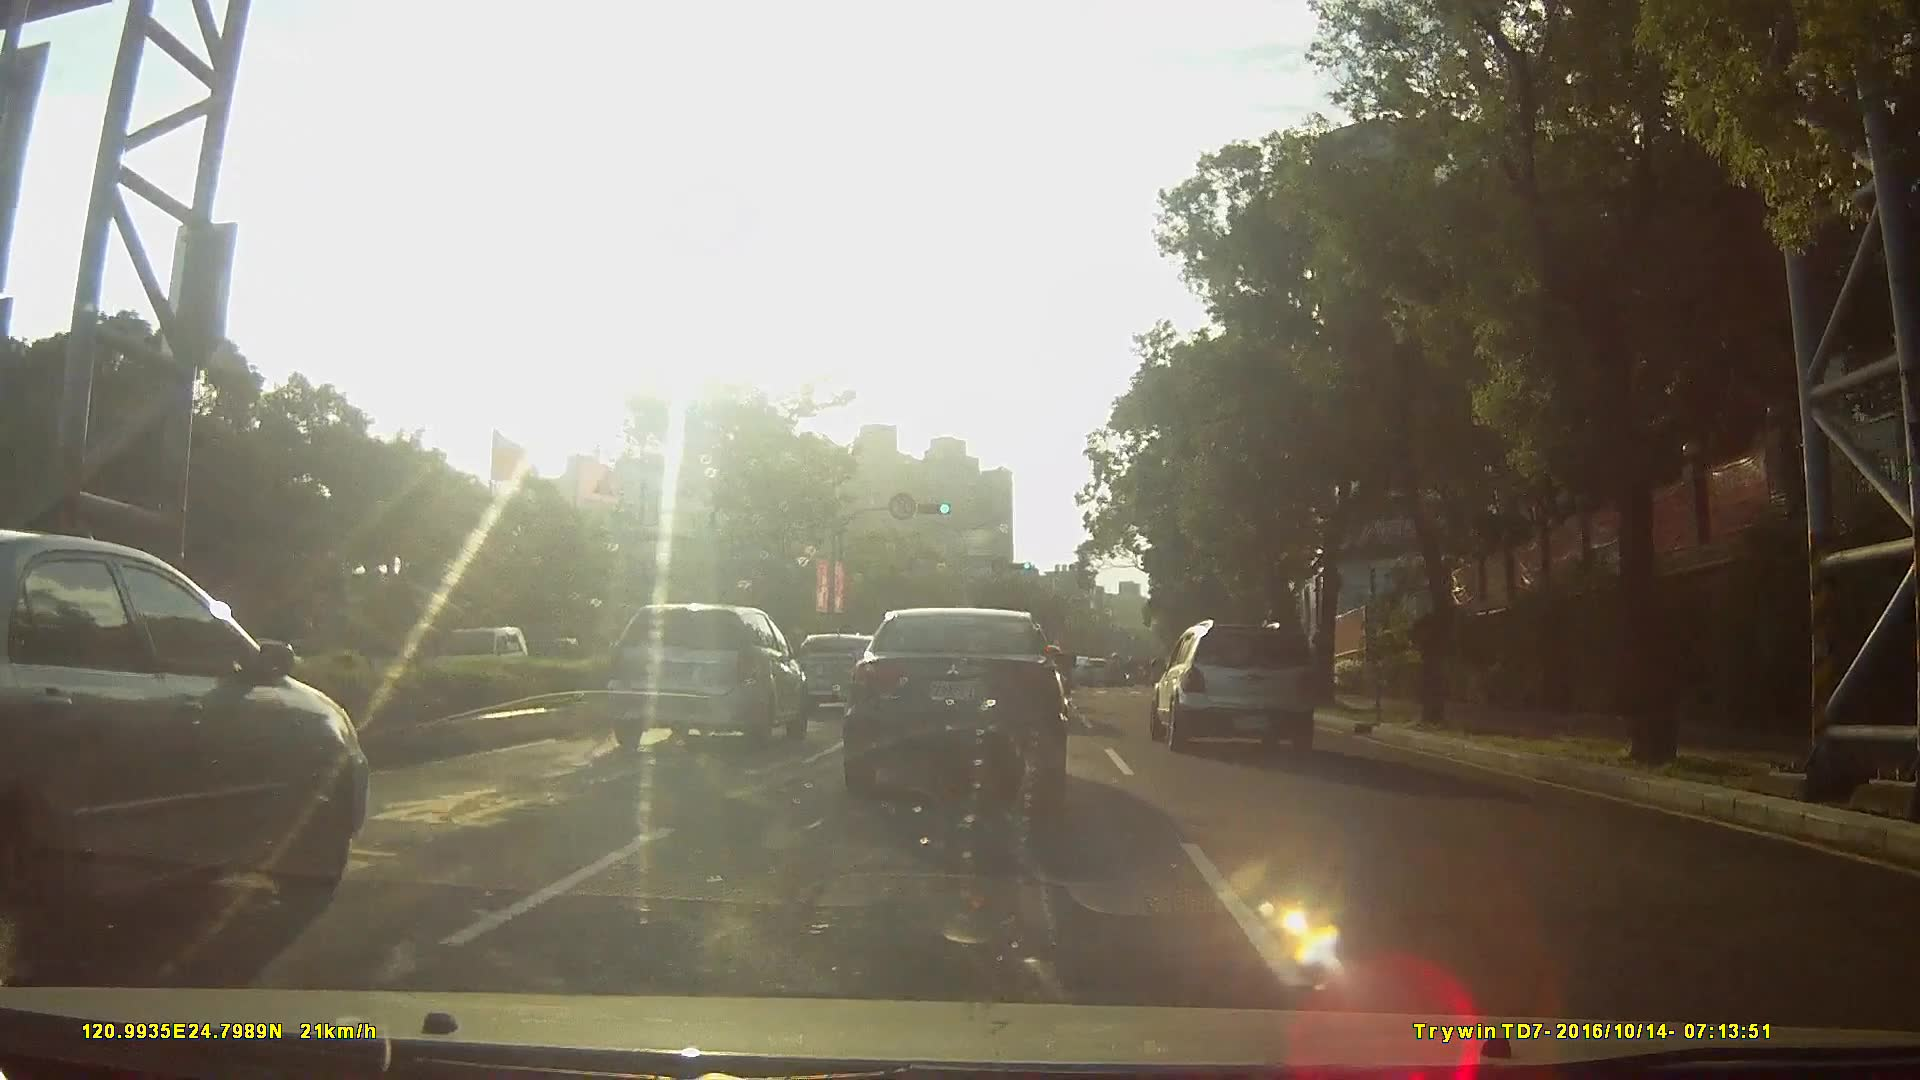vehicle: (1, 527, 386, 994), (843, 604, 1068, 807), (601, 605, 808, 750), (1145, 616, 1327, 752), (417, 624, 538, 695), (1077, 655, 1112, 686)
